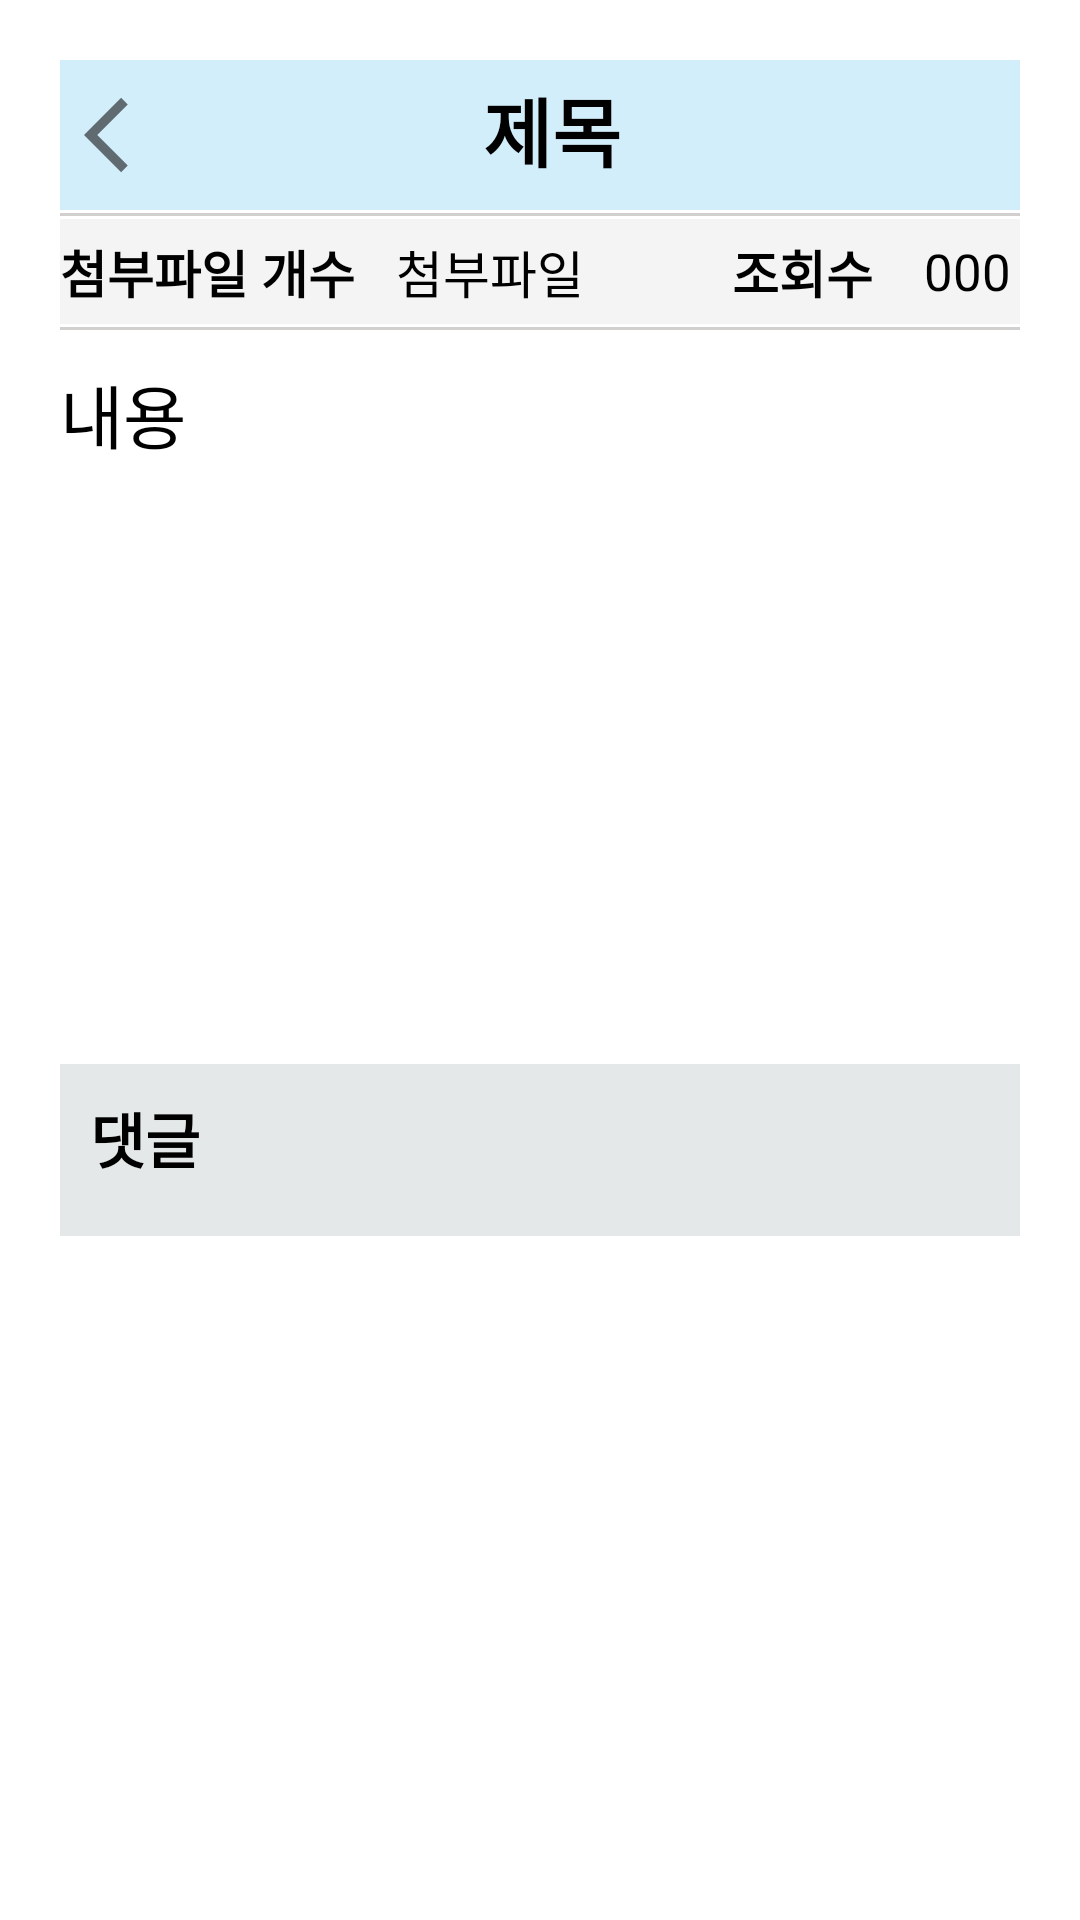

Where icons sit on this 1080px x 1920px app screen, as (x1, y1, x2, y2):
arrow back: (84, 98, 128, 172)
